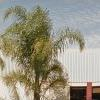Palm tree: (9, 3, 77, 98)
